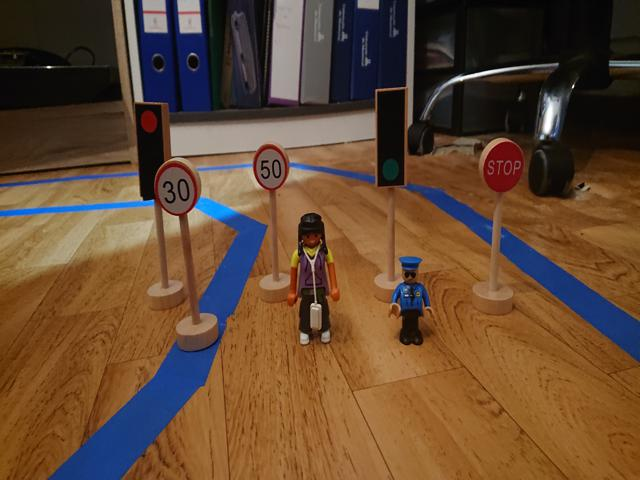30 speed sign: (154, 165, 198, 217)
50 speed sign: (252, 144, 288, 192)
green light: (377, 92, 403, 184)
person: (285, 212, 341, 346), (386, 256, 434, 347)
red light: (139, 106, 159, 177)
stop sign: (482, 138, 527, 193)
